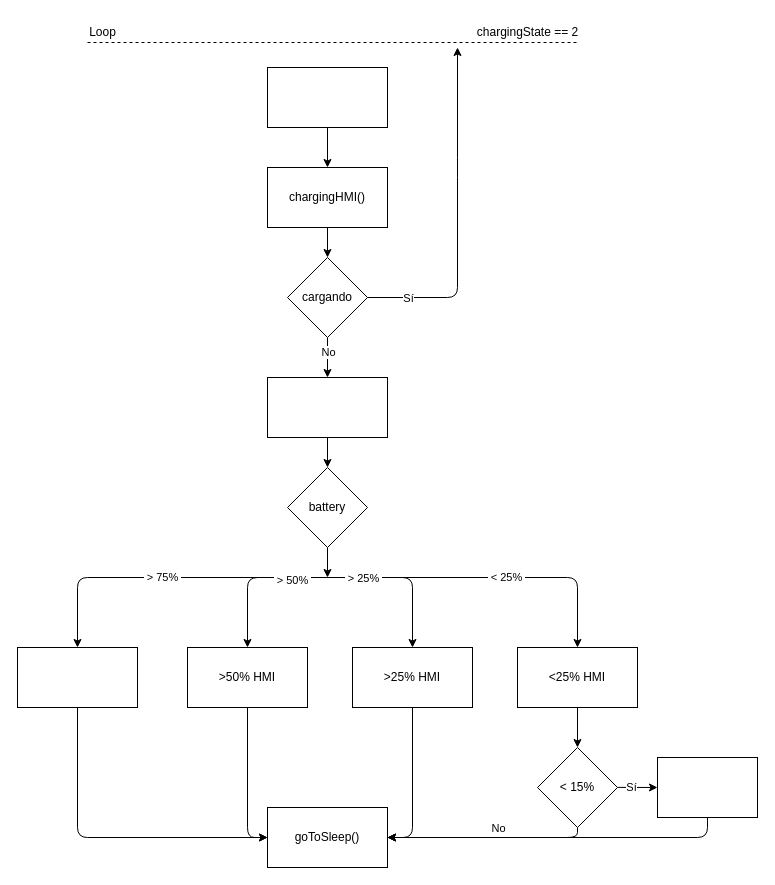
Some shapes in this 775 by 885 pixel diagram are drawn without their labels. Here are the shapes that lost their labels. From the top down, the box of each, then its label:
(266, 66, 388, 128): Leer pin batería
(266, 376, 388, 438): getBattery() ledsOFF()
(16, 646, 138, 708): >75% HMI
(656, 756, 758, 818): lowBattery = true led_r ON
